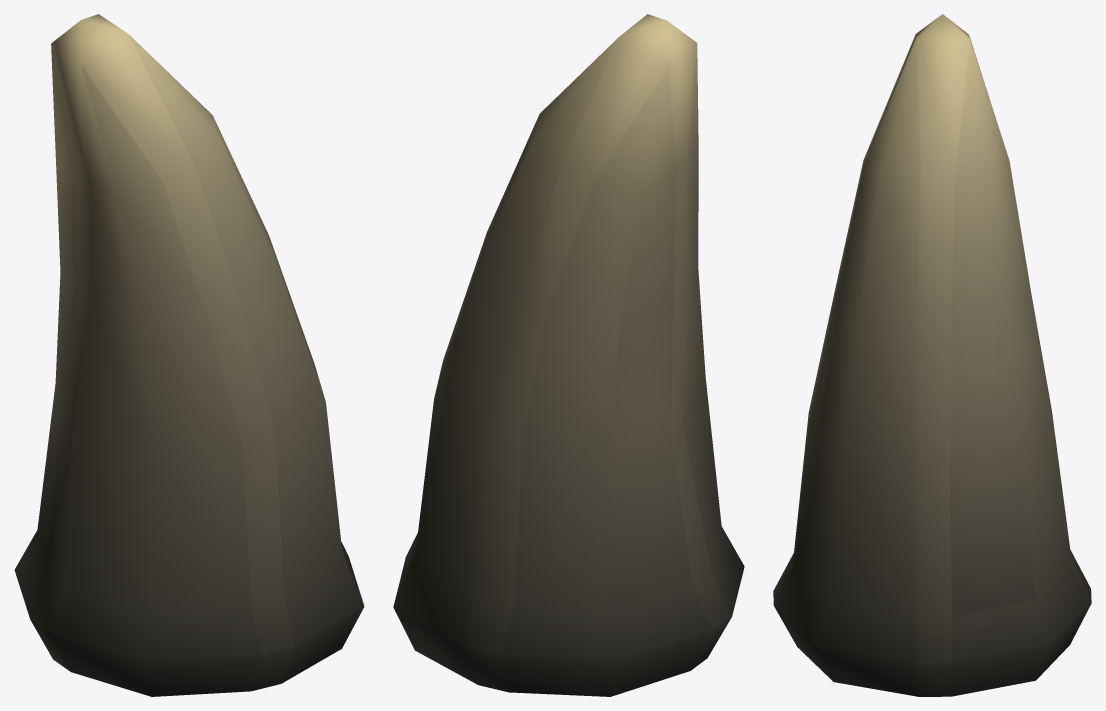
Rendered from undead_ground_bone_4.fbx.
3 views of the same model, side by side, from view 1: azimuth 30°, elevation 25°; view 2: azimuth 150°, elevation 25°; view 3: azimuth 270°, elevation 25° (orthographic). The views are drawn at different scales.
Parts seen in each view (by area): view 1: undead_ground_bone_4; view 2: undead_ground_bone_4; view 3: undead_ground_bone_4.
Part boxes in pixels (left/top/right/bottom): undead_ground_bone_4: left=14, top=14, right=364, bottom=696; undead_ground_bone_4: left=393, top=14, right=744, bottom=696; undead_ground_bone_4: left=773, top=14, right=1091, bottom=696.
Bounding box in the file's own units: 1.33 × 2.67 × 1.33.
